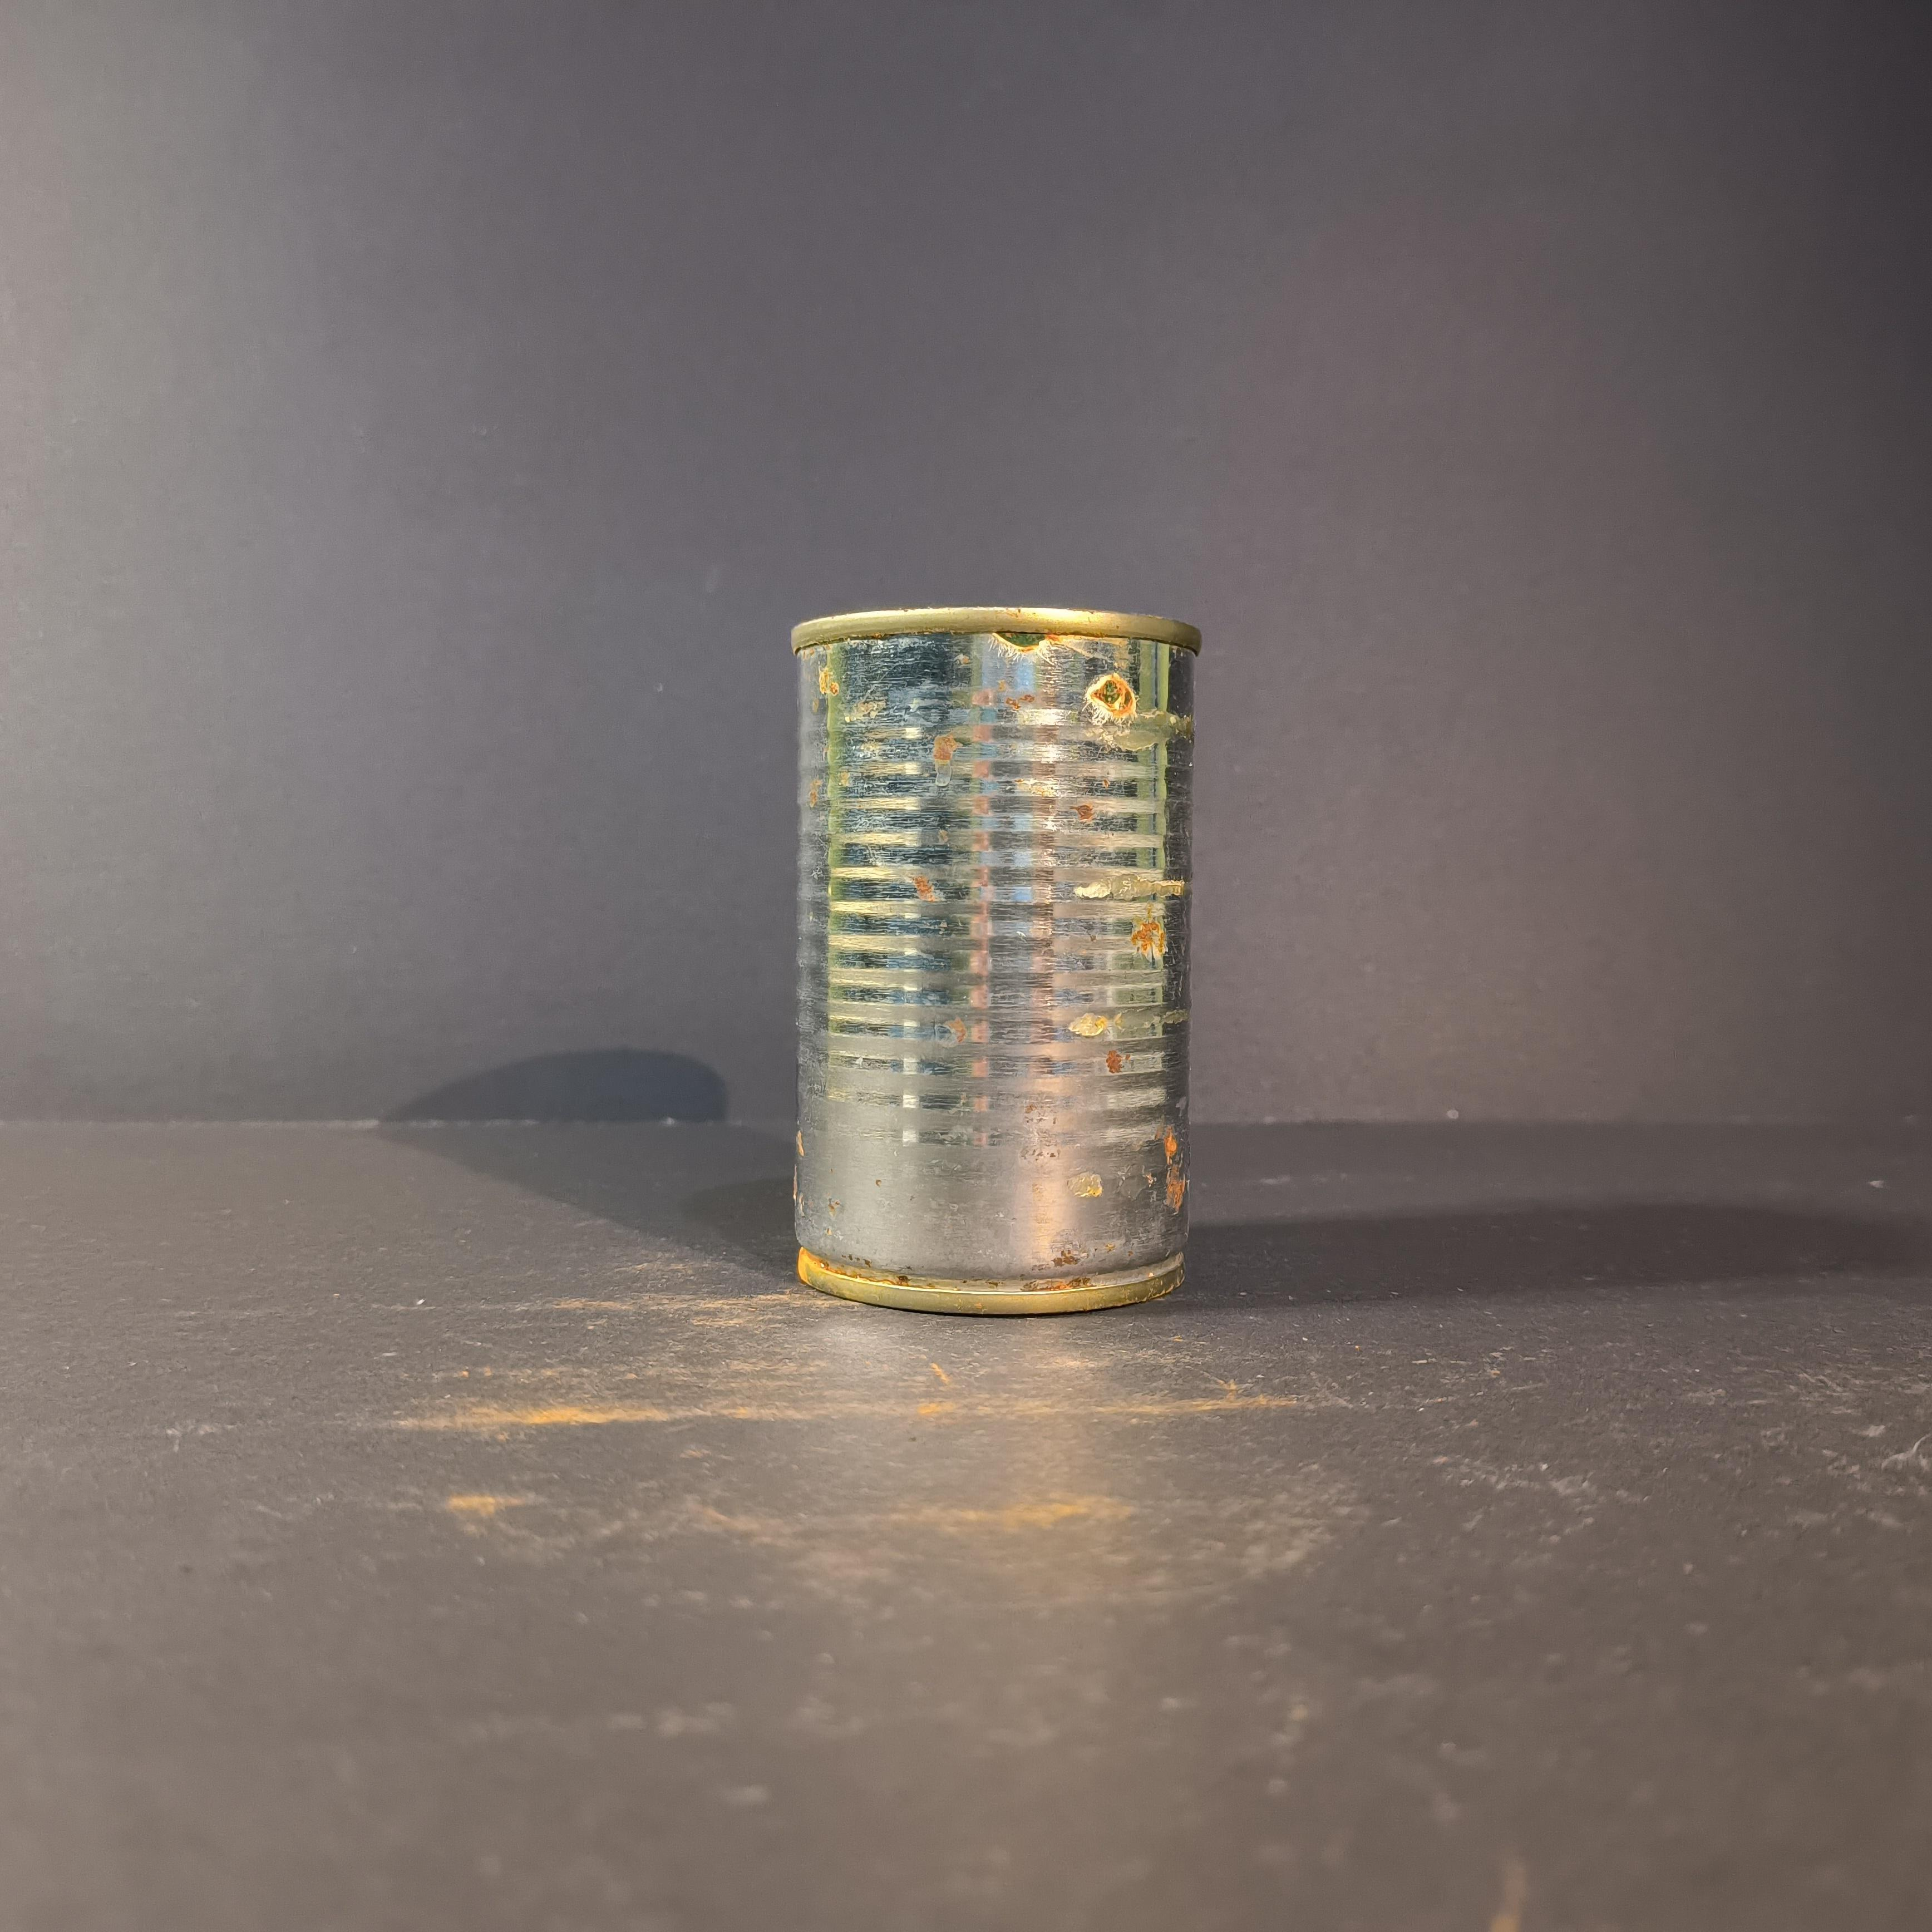Rusted: (771, 589, 1200, 1338)
